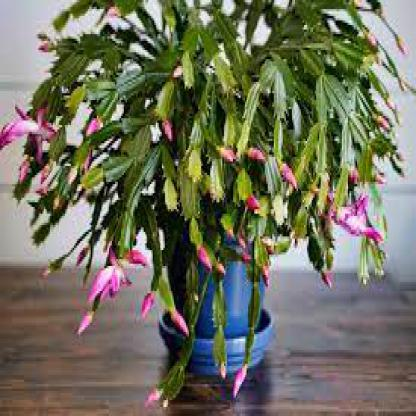Aglonema: (14, 234, 402, 353), (125, 90, 413, 222)
